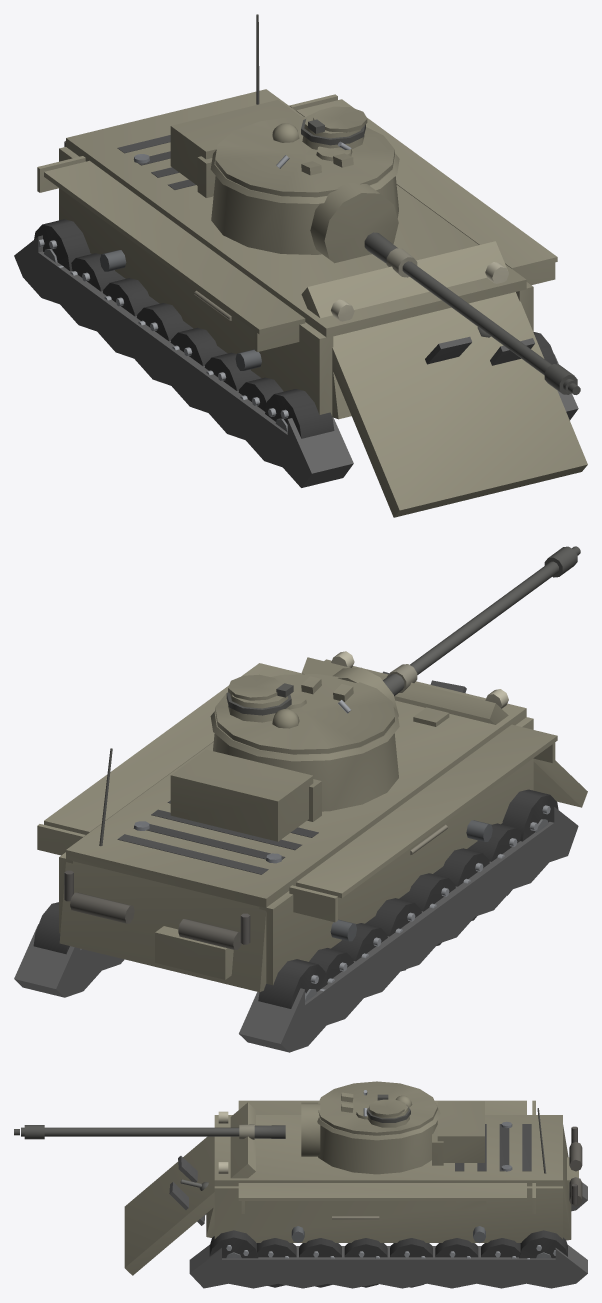
The model's file is firefly.glb.
3 renders of one model, top to bottom at view 1: azimuth 30°, elevation 25°; view 2: azimuth 150°, elevation 25°; view 3: azimuth 270°, elevation 25°, orthographic. The views are drawn at different scales.
Visible parts, largest first — view 1: glacis, hullSide, hullTop, tracks, turretRoof, turretFront, mantlet, barrel, wheel6, wheel7, turretSide, wheel1 (+6 smaller); view 2: hullSide, hullTop, tracks, hullRear, turretFront, turretRoof, glacis, barrel, wheel7, wheel6, turretSide, wheel3 (+7 smaller); view 3: hullSide, tracks, hullTop, glacis, turretFront, turretRoof, barrel, hullRear, wheel15, wheel14, mantlet, wheel11 (+7 smaller).
Boxes of the visible parts, x1,y1,x2,y2 form: glacis: [301, 241, 587, 517]; hullSide: [37, 94, 557, 415]; hullTop: [66, 89, 526, 337]; tracks: [14, 235, 578, 487]; turretRoof: [215, 106, 394, 197]; turretFront: [170, 100, 398, 254]; mantlet: [310, 182, 398, 263]; barrel: [364, 232, 580, 394]; wheel6: [265, 389, 334, 438]; wheel7: [34, 219, 91, 271]; turretSide: [210, 149, 399, 203]; wheel1: [103, 278, 159, 316]; hullSide: [37, 651, 557, 985]; hullTop: [66, 659, 526, 907]; tracks: [14, 806, 578, 1052]; hullRear: [59, 748, 266, 992]; turretFront: [170, 733, 398, 841]; turretRoof: [215, 674, 394, 754]; glacis: [301, 657, 587, 807]; barrel: [383, 546, 580, 696]; wheel7: [258, 959, 327, 1008]; wheel6: [501, 789, 558, 841]; turretSide: [210, 707, 399, 761]; wheel3: [399, 873, 455, 945]; hullSide: [214, 1100, 562, 1242]; tracks: [189, 1182, 587, 1288]; hullTop: [214, 1115, 562, 1186]; glacis: [124, 1102, 255, 1275]; turretFront: [318, 1101, 484, 1174]; turretRoof: [318, 1081, 437, 1135]; barrel: [14, 1124, 285, 1139]; hullRear: [537, 1108, 582, 1240]; wheel15: [519, 1230, 567, 1259]; wheel14: [209, 1230, 258, 1258]; mantlet: [301, 1102, 320, 1156]; wheel11: [344, 1238, 387, 1287].
Size of the model in its own units: 3.9 by 3.03 by 9.73.
